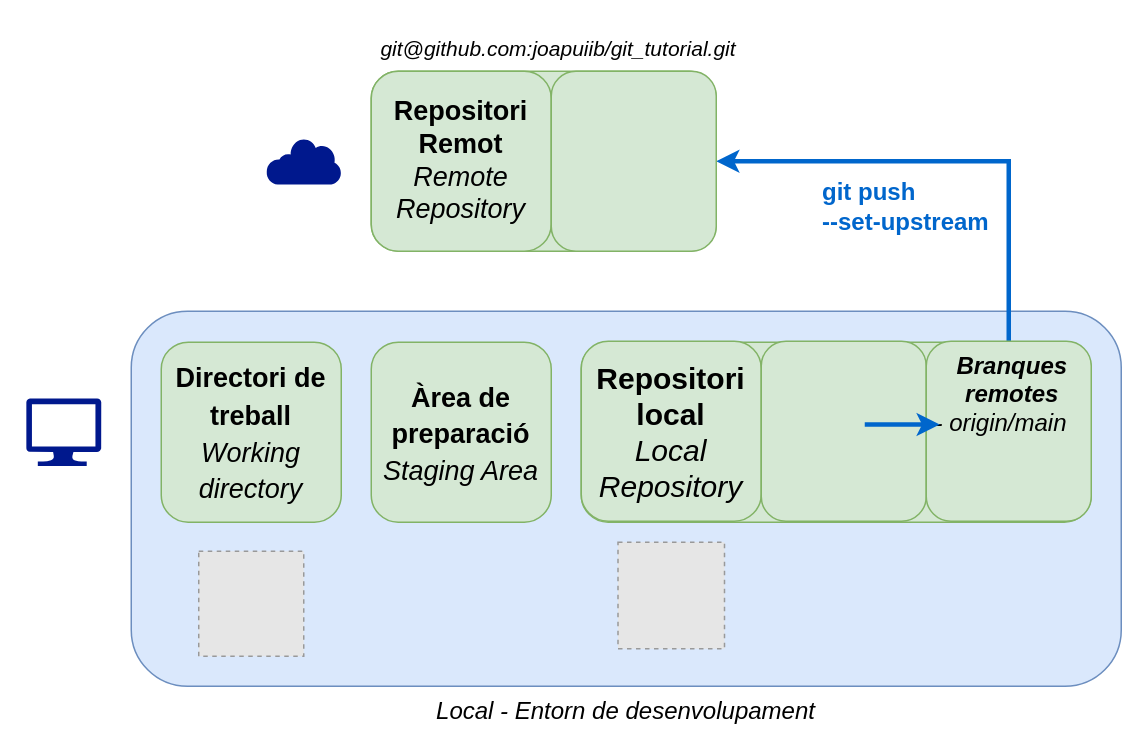
This 1148x750 diagram has some shape labels left out. Grey dashed boxes stand in for pictures. The centre of each missing label's shape, as x and y in pixels:
"Branques - main" goes at pixel 633 160.
"Branques locals - main" goes at pixel 843 430.
